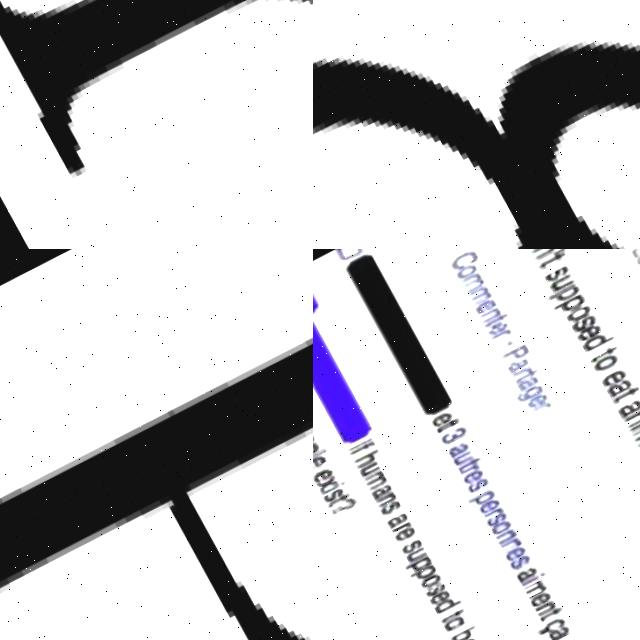3: (433, 424, 467, 448)
8: (313, 0, 640, 249)
A: (602, 378, 632, 401), (612, 399, 640, 419), (364, 481, 392, 501), (506, 566, 535, 585), (503, 356, 530, 376), (380, 510, 407, 530), (512, 375, 540, 394), (539, 624, 567, 640), (443, 441, 466, 460)
B: (442, 625, 473, 640)
C: (447, 249, 482, 272)
D: (578, 331, 613, 355), (425, 593, 458, 615)
E: (574, 323, 603, 343), (420, 588, 448, 608), (471, 296, 498, 316), (426, 410, 453, 430), (455, 468, 482, 488), (471, 497, 498, 517), (521, 591, 548, 611), (597, 371, 624, 390), (496, 545, 523, 564), (387, 525, 414, 544), (523, 393, 548, 412), (484, 319, 508, 338), (313, 465, 331, 484), (313, 453, 325, 473), (446, 635, 473, 640)
F: (345, 439, 374, 457)
G: (511, 383, 544, 406)
H: (350, 447, 379, 468)
I: (314, 481, 343, 497), (343, 435, 371, 451), (513, 573, 540, 588), (623, 417, 640, 435)
L: (313, 446, 324, 463)
M: (357, 467, 388, 492), (458, 271, 487, 295), (464, 284, 493, 307), (517, 579, 543, 600), (626, 421, 640, 449)
N: (368, 490, 396, 509), (478, 305, 502, 324), (619, 408, 640, 429), (491, 527, 514, 544), (495, 537, 518, 554), (529, 249, 561, 261), (528, 601, 549, 617)
O: (561, 303, 592, 326), (589, 355, 618, 375), (483, 520, 510, 539), (412, 572, 439, 591), (435, 614, 462, 633), (454, 263, 478, 281), (631, 250, 640, 269)
P: (0, 338, 313, 640), (544, 282, 583, 309), (551, 294, 585, 318), (498, 343, 531, 366), (461, 490, 494, 512), (397, 554, 430, 576), (401, 565, 431, 586)
R: (476, 507, 501, 523), (509, 365, 532, 380), (528, 400, 551, 415), (386, 519, 408, 534), (489, 329, 512, 343), (455, 463, 477, 477)
S: (566, 314, 598, 336), (543, 264, 572, 285), (459, 476, 487, 496), (500, 553, 528, 573), (372, 498, 400, 517), (394, 538, 421, 556), (417, 580, 444, 598), (318, 486, 341, 504), (479, 513, 504, 529)
T: (585, 345, 618, 365), (536, 251, 568, 271), (608, 386, 638, 405), (511, 368, 541, 386), (430, 417, 459, 435), (530, 606, 559, 624), (450, 456, 479, 473), (483, 312, 510, 329), (432, 607, 459, 624), (321, 491, 348, 507)
U: (546, 274, 575, 294), (449, 449, 472, 468), (401, 546, 424, 565), (355, 460, 378, 477)
X: (313, 474, 334, 491)
Y: (0, 0, 313, 249)
